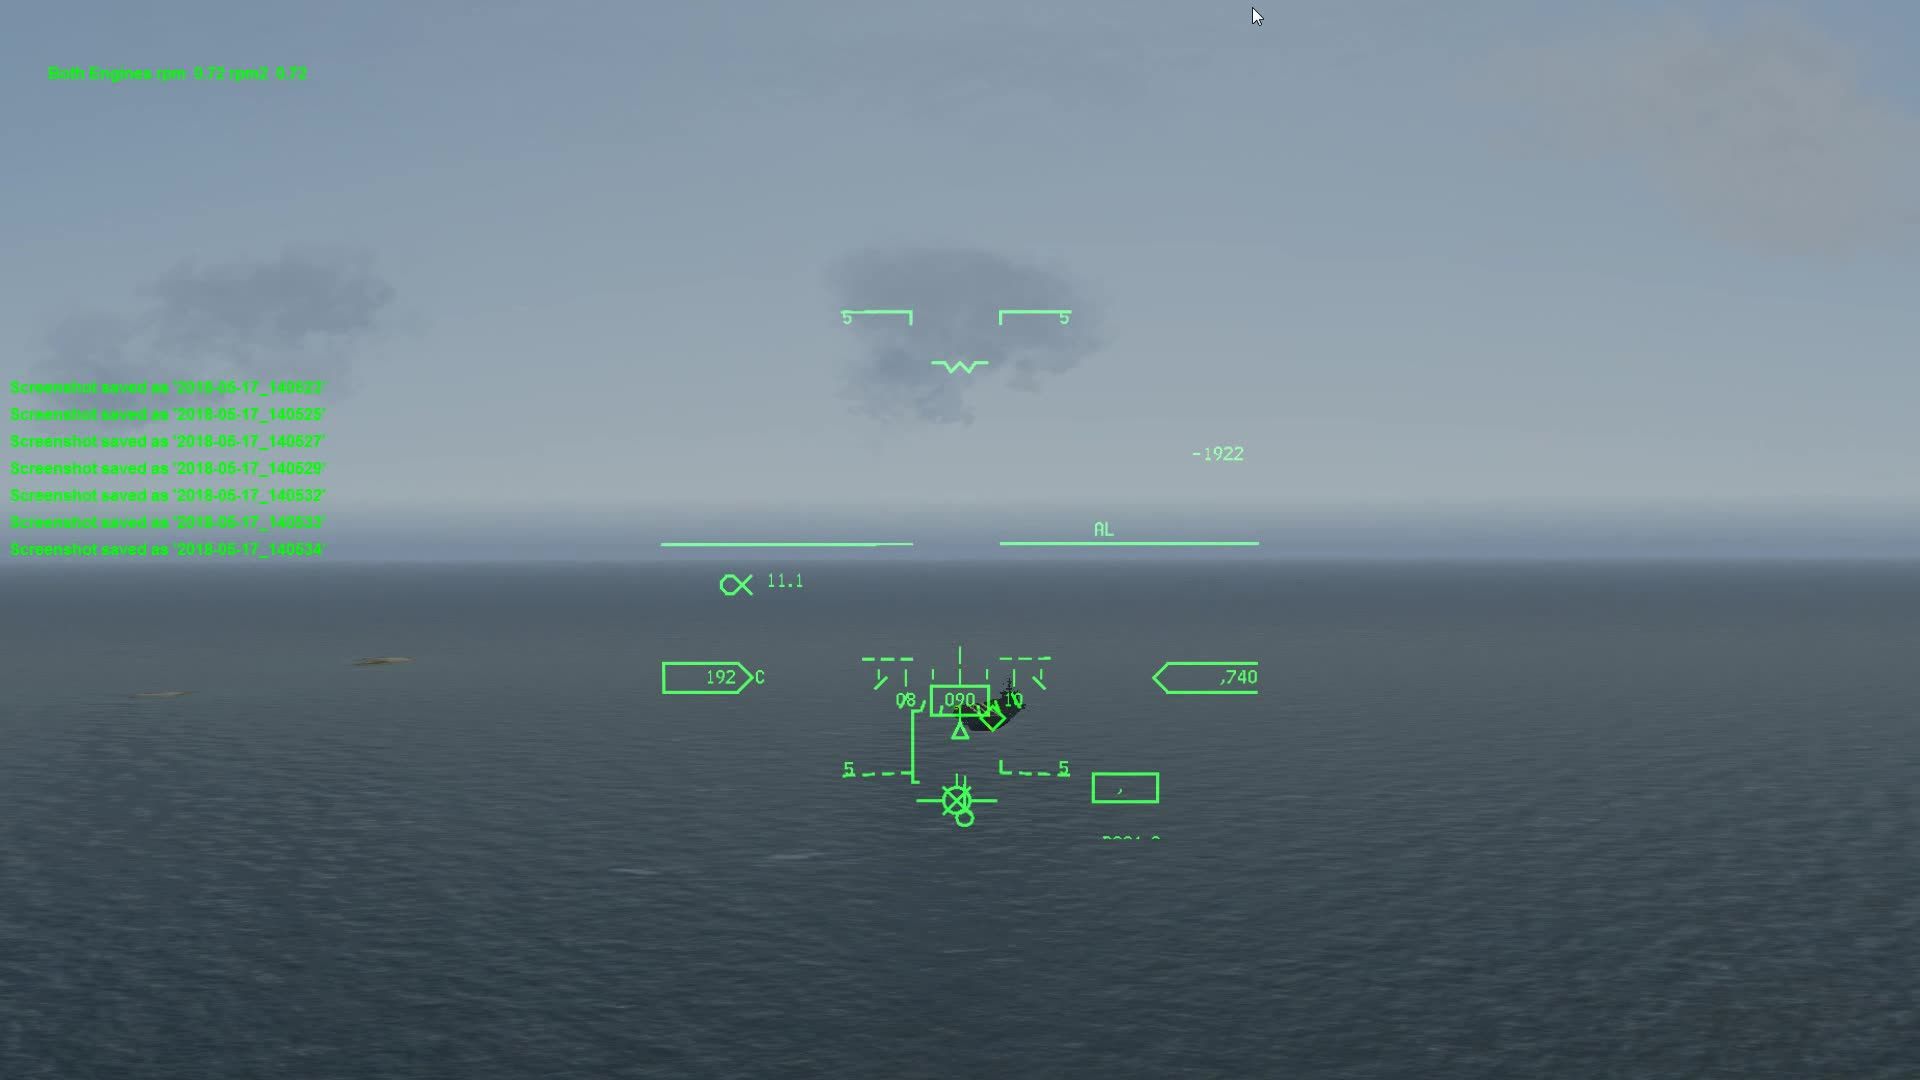speed vector: (922, 764, 1005, 836)
